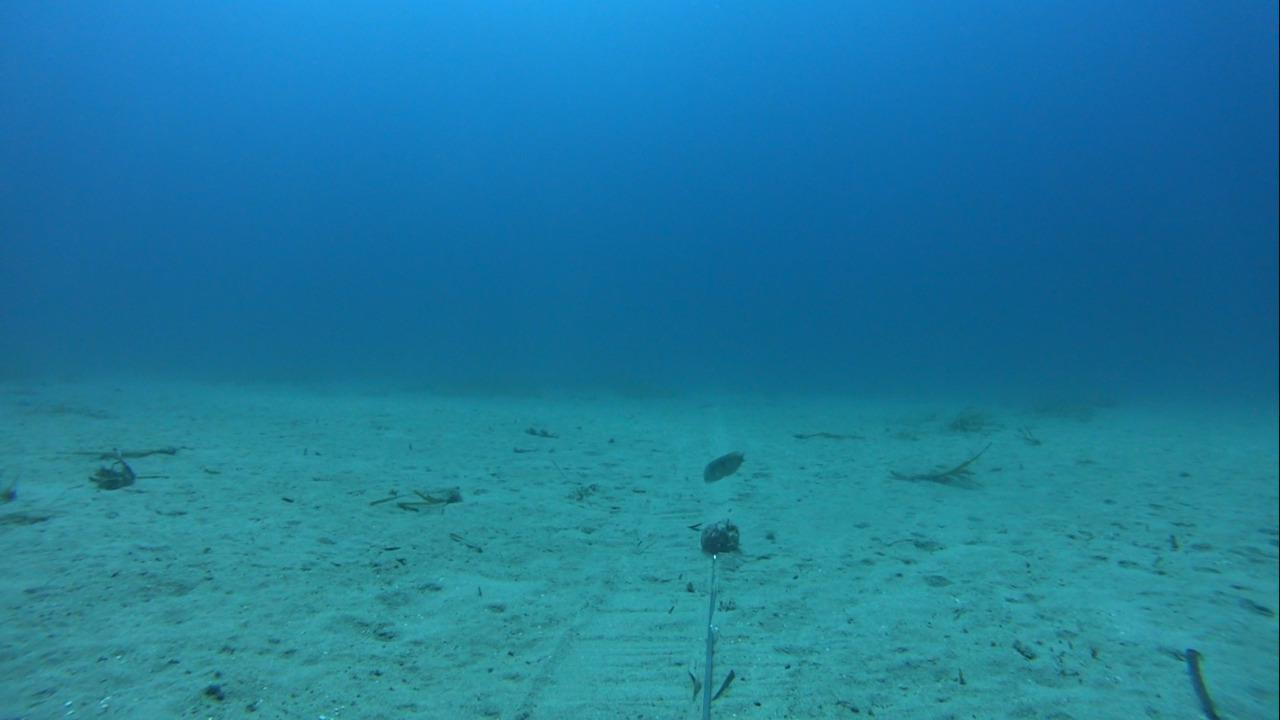raor: (699, 449, 745, 480)
